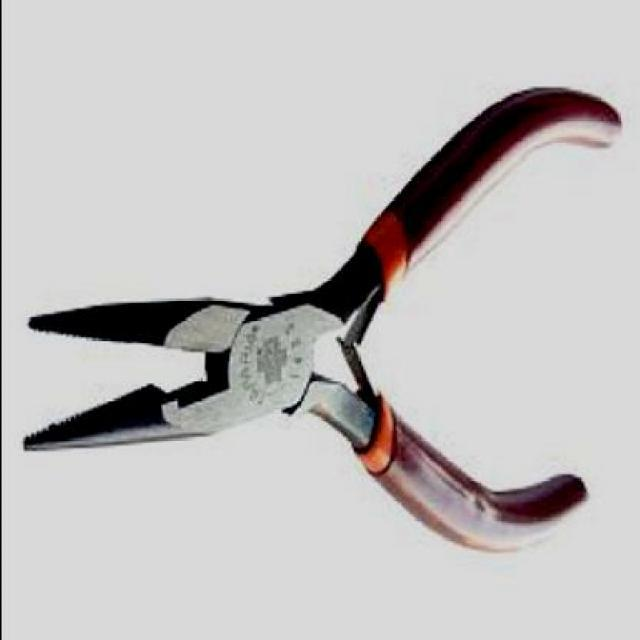pliers: (17, 81, 617, 574)
